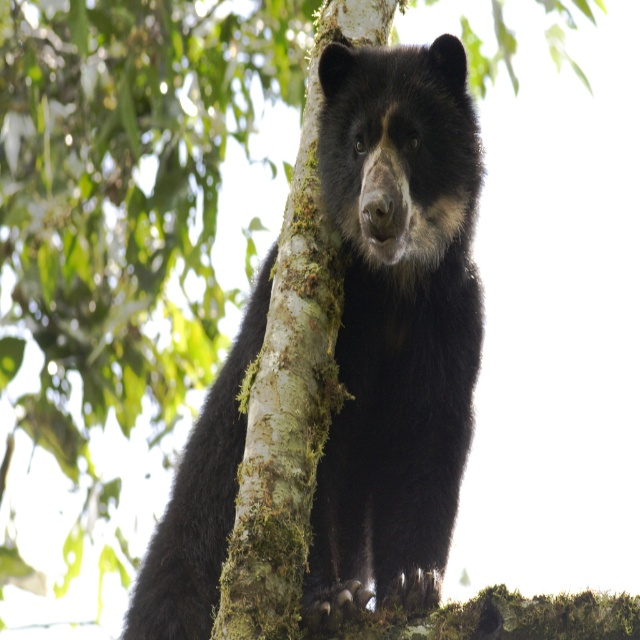Brown bear: (117, 34, 488, 640)
